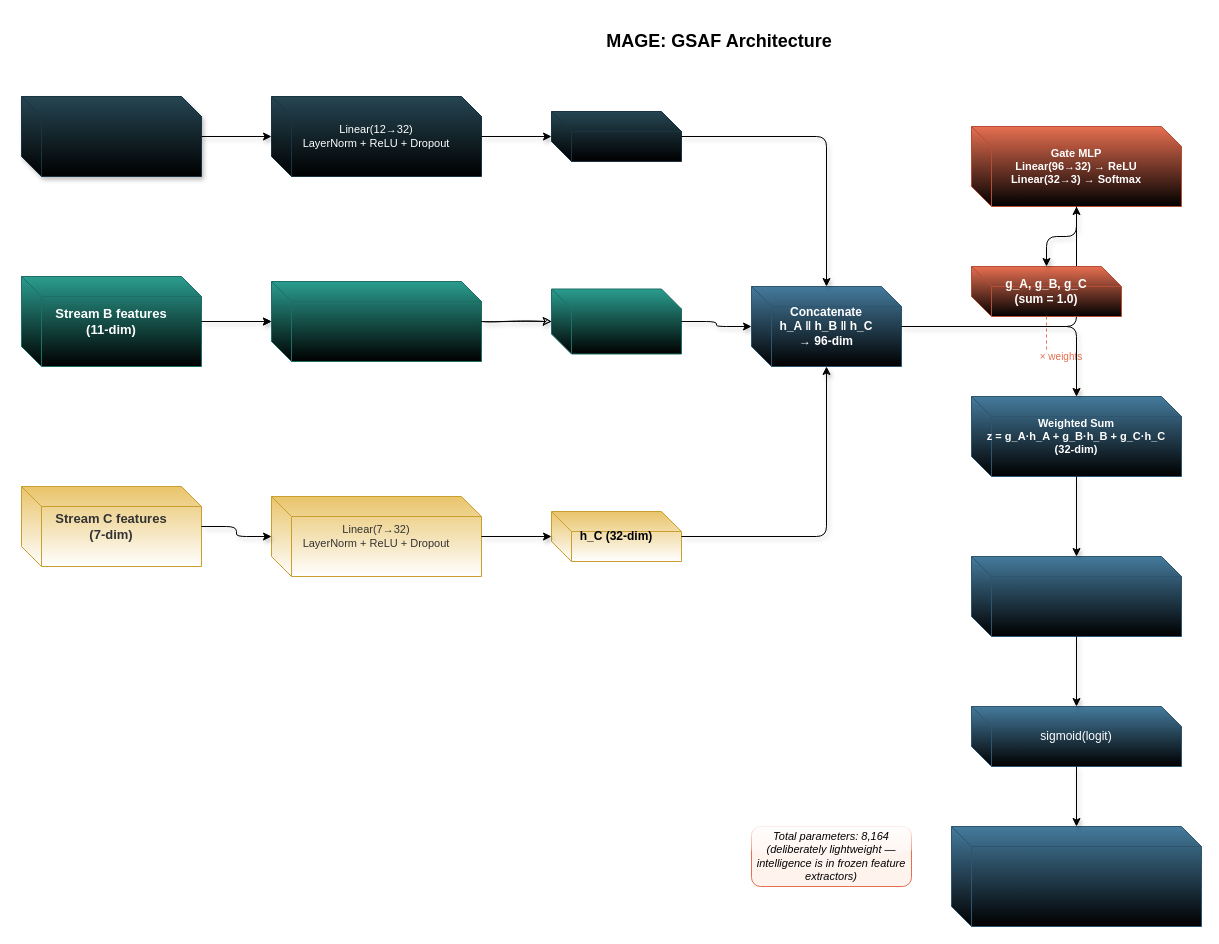
Some shapes in this 1219 by 944 pixel diagram are drawn without their labels. The centre of each missing label's shape, as x and y in pixels:
Classifier Linear(32→16) → ReLU → Dropout Linear(16→1): point (1076, 596)
h_A (32-dim): point (616, 136)
h_B (32-dim): point (616, 321)
Linear(11→32) LayerNorm + ReLU + Dropout: point (376, 321)
P(OOC) ∈ [0, 1] ≥ threshold → OUT-OF-CONTEXT: point (1076, 876)
Stream A features (12-dim): point (112, 138)
